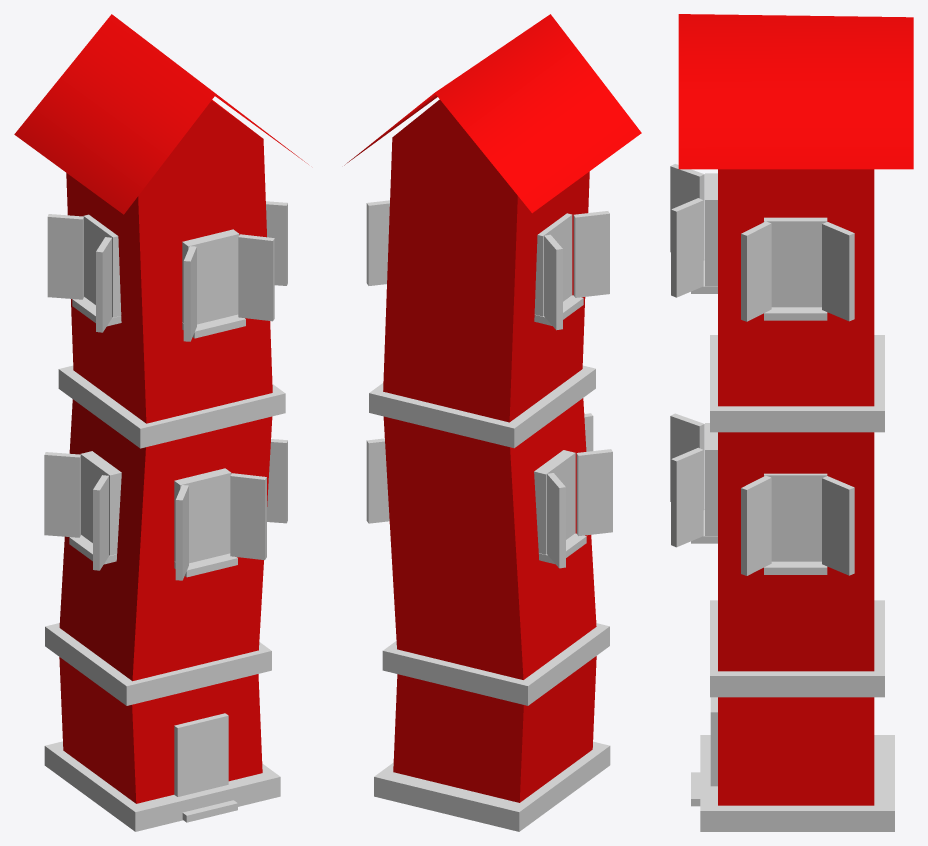
File: tree_1.FBX
The picture shows the model from 3 angles, left to right: view 1: azimuth 30°, elevation 25°; view 2: azimuth 150°, elevation 25°; view 3: azimuth 270°, elevation 25°; orthographic projection. The views are drawn at different scales.
Parts seen in each view (by area): view 1: house, dor_part003, roof, window_part_2, window_part_1; view 2: house, roof, dor_part003, window_part_2, window_part_1; view 3: house, roof, dor_part003, window_part_2, window_part_1.
Boxes of the visible parts, box(x1,y1,x2,y2) form: house: box(59, 100, 272, 803); dor_part003: box(44, 297, 285, 831); roof: box(14, 14, 308, 214); window_part_2: box(44, 201, 287, 580); window_part_1: box(80, 214, 239, 796); house: box(383, 99, 596, 802); roof: box(344, 14, 641, 213); dor_part003: box(369, 295, 610, 831); window_part_2: box(366, 200, 612, 568); window_part_1: box(534, 213, 575, 554); house: box(718, 169, 874, 805); roof: box(678, 14, 913, 169); dor_part003: box(691, 260, 894, 831); window_part_2: box(670, 164, 854, 575); window_part_1: box(705, 173, 827, 786).
Size of the model in its own units: 4749 by 4726 by 16724.
